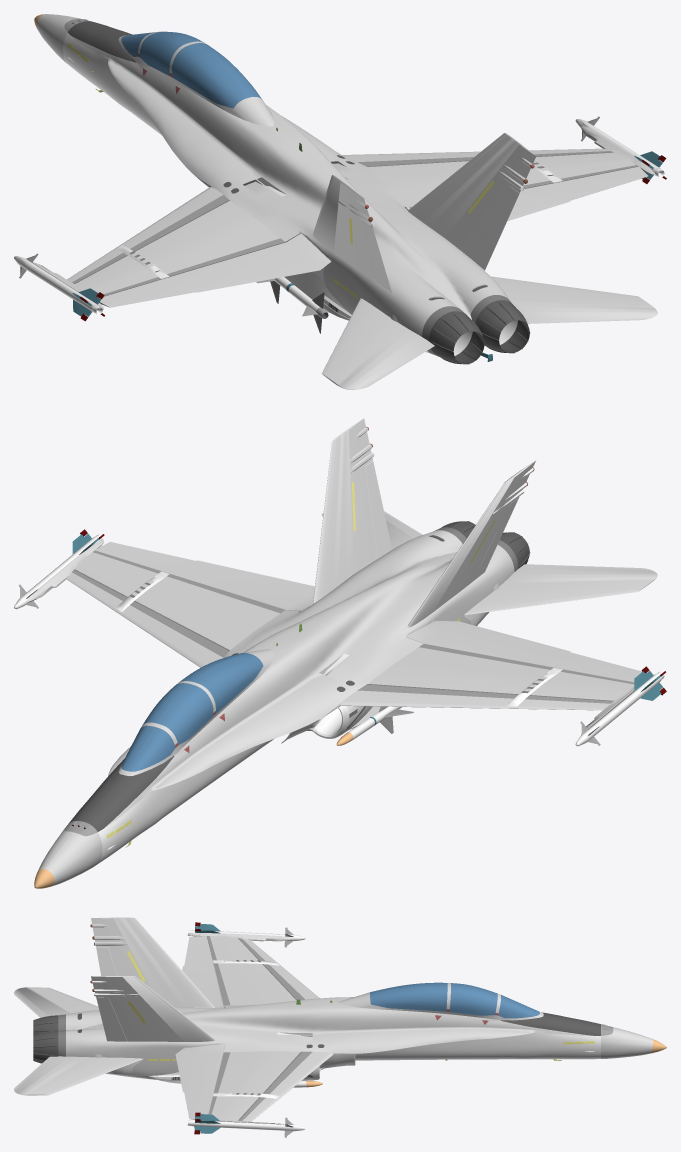
3 renders of one model, top to bottom at view 1: azimuth 30°, elevation 25°; view 2: azimuth 150°, elevation 25°; view 3: azimuth 270°, elevation 25°, orthographic. The views are drawn at different scales.
Visible parts, largest first — view 1: Object_139, Object_21, Object_87, Object_44, Object_17, Object_148, Object_48, Object_52, Object_22, Object_130, Object_145, Object_31 (+6 smaller); view 2: Object_139, Object_21, Object_17, Object_44, Object_148, Object_87, Object_48, Object_22, Object_130, Object_151, Object_160, Object_31 (+5 smaller); view 3: Object_139, Object_21, Object_44, Object_48, Object_130, Object_87, Object_17, Object_148, Object_22, Object_160, Object_151, Object_52 (+6 smaller).
Boxes of the visible parts, bbox=[...] form: Object_139: bbox=[72, 36, 509, 336]; Object_21: bbox=[67, 148, 638, 296]; Object_87: bbox=[321, 276, 657, 389]; Object_44: bbox=[333, 133, 535, 277]; Object_17: bbox=[99, 166, 648, 307]; Object_148: bbox=[121, 31, 262, 108]; Object_48: bbox=[313, 175, 508, 292]; Object_52: bbox=[429, 300, 530, 364]; Object_22: bbox=[72, 151, 637, 297]; Object_130: bbox=[63, 32, 285, 193]; Object_145: bbox=[118, 31, 274, 126]; Object_31: bbox=[14, 119, 664, 314]; Object_139: bbox=[105, 530, 514, 827]; Object_21: bbox=[66, 552, 634, 710]; Object_17: bbox=[95, 542, 646, 682]; Object_44: bbox=[313, 418, 532, 626]; Object_148: bbox=[121, 653, 263, 771]; Object_87: bbox=[321, 511, 657, 614]; Object_48: bbox=[313, 443, 535, 627]; Object_22: bbox=[72, 550, 634, 703]; Object_130: bbox=[98, 654, 343, 863]; Object_151: bbox=[68, 756, 174, 831]; Object_160: bbox=[38, 827, 102, 886]; Object_31: bbox=[14, 534, 664, 746]; Object_139: bbox=[66, 997, 592, 1075]; Object_21: bbox=[207, 936, 333, 1121]; Object_44: bbox=[91, 917, 214, 1007]; Object_48: bbox=[91, 976, 215, 1041]; Object_130: bbox=[280, 1032, 600, 1060]; Object_87: bbox=[14, 987, 142, 1094]; Object_17: bbox=[175, 936, 225, 1119]; Object_148: bbox=[370, 982, 539, 1018]; Object_22: bbox=[207, 936, 312, 1120]; Object_160: bbox=[601, 1027, 653, 1058]; Object_151: bbox=[501, 1012, 600, 1035]; Object_52: bbox=[33, 1015, 58, 1063].
Bounding box in the file's own units: 2625 × 848 × 3671.
